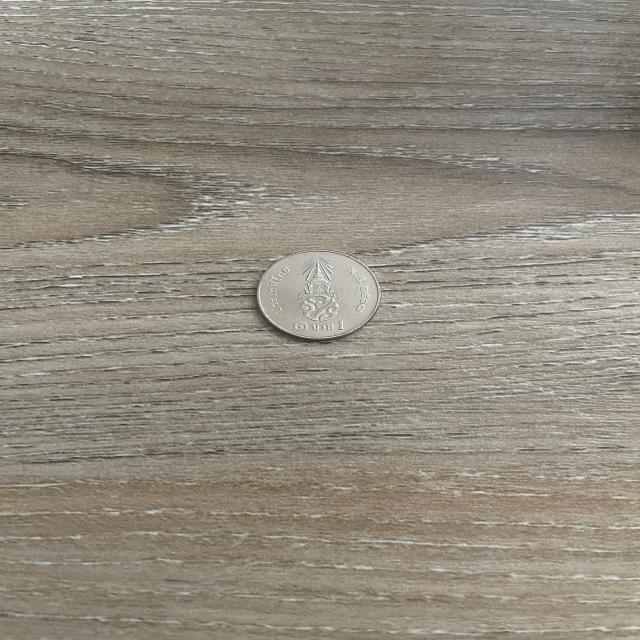1 Bath: (247, 244, 393, 347)
